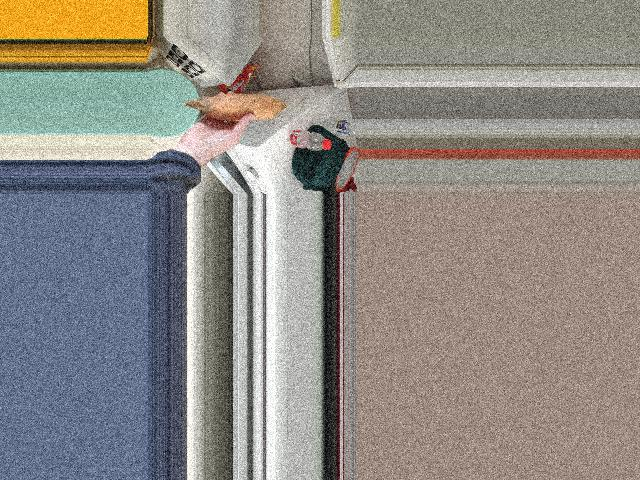sweet_potato: (196, 95, 283, 118)
